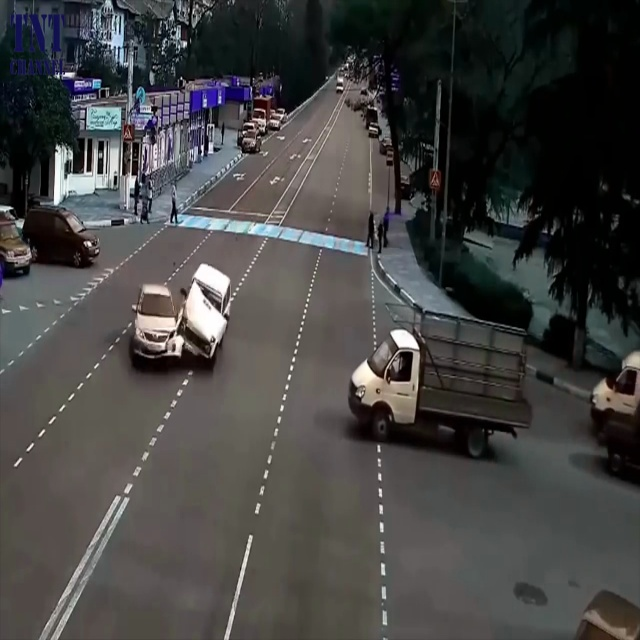acc: (114, 253, 242, 380)
